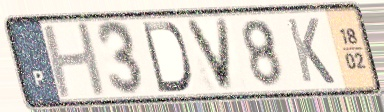3: (98, 18, 144, 99)
8: (240, 17, 287, 90)
D: (139, 20, 193, 95)
H: (39, 19, 111, 102)
K: (283, 16, 338, 86)
V: (181, 16, 236, 93)
